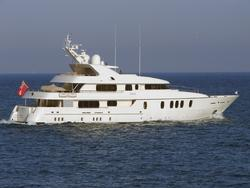yacht: (9, 33, 236, 126)
